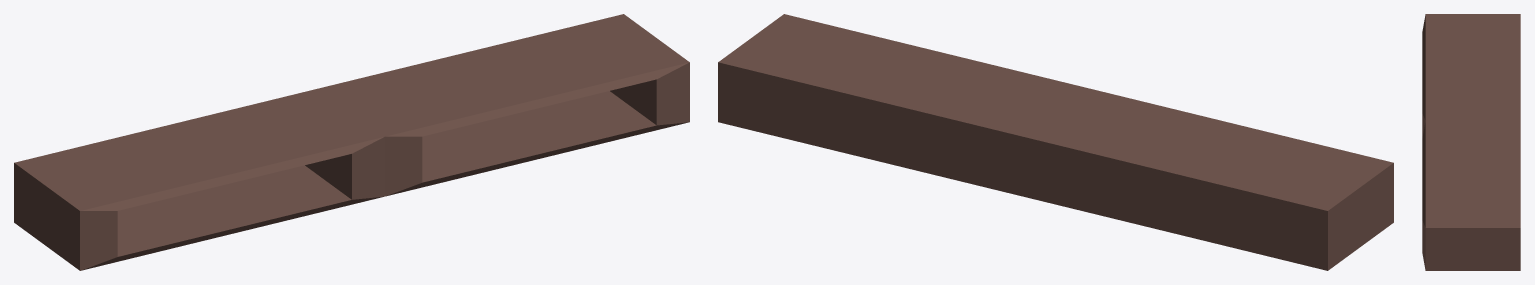
Rendered from Hängeregal.fbx.
3 renders of one model, left to right at view 1: azimuth 30°, elevation 25°; view 2: azimuth 150°, elevation 25°; view 3: azimuth 270°, elevation 25°, orthographic. The views are drawn at different scales.
Parts seen in each view (by area): view 1: Wandregal; view 2: Wandregal; view 3: Wandregal.
Boxes of the visible parts, x1,y1,x2,y2 form: Wandregal: [14, 14, 689, 270]; Wandregal: [718, 14, 1393, 270]; Wandregal: [1422, 14, 1520, 270].
Size of the model in its own units: 763 by 71.67 by 148.
